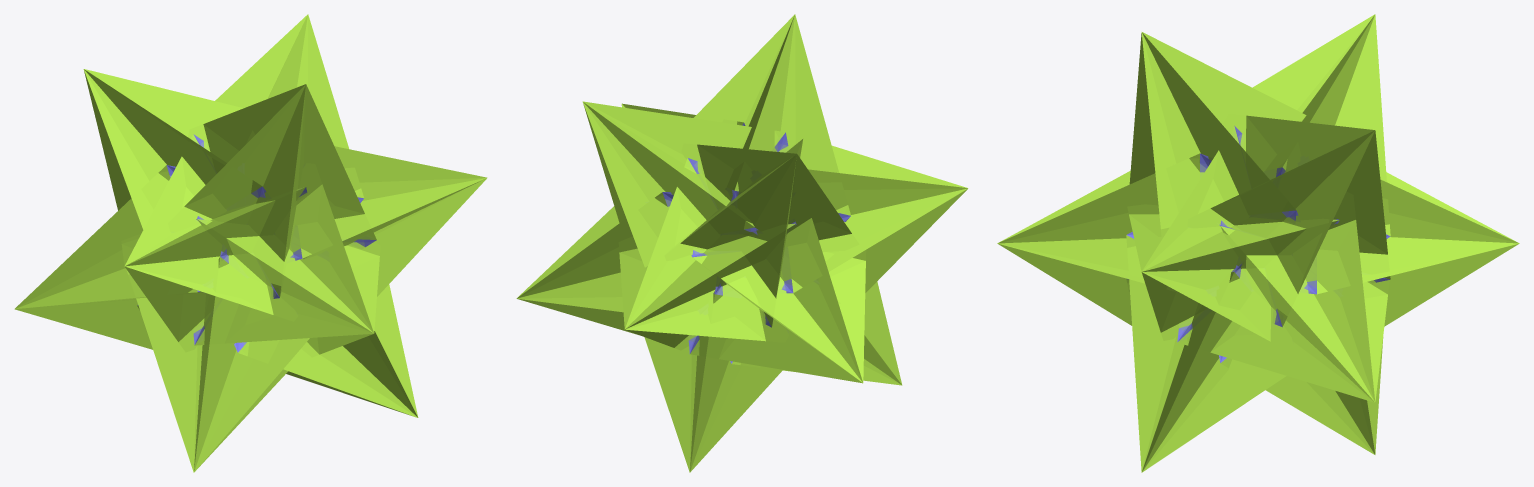
The model's file is 44_Dodecaugmented_Girsid.obj.
3 views of the same model, side by side, from view 1: azimuth 30°, elevation 25°; view 2: azimuth 150°, elevation 25°; view 3: azimuth 270°, elevation 25° (orthographic). The views are drawn at different scales.
Size of the model in its own units: 1.86 by 1.96 by 2.19.
